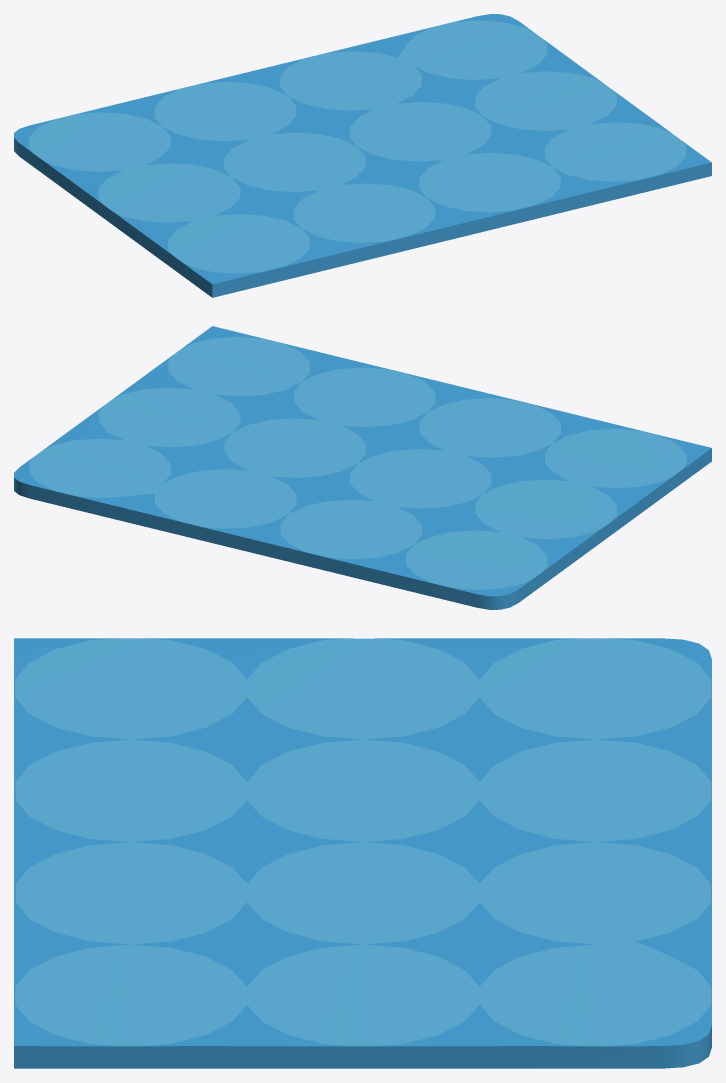
Rendered from tile01_s02.FBX.
3 renders of one model, top to bottom at view 1: azimuth 30°, elevation 25°; view 2: azimuth 150°, elevation 25°; view 3: azimuth 270°, elevation 25°, orthographic. The views are drawn at different scales.
Parts seen in each view (by area): view 1: tile01_s02; view 2: tile01_s02; view 3: tile01_s02.
Boxes of the visible parts, left/top/right/bottom form: tile01_s02: left=14, top=14, right=711, bottom=297; tile01_s02: left=14, top=326, right=711, bottom=609; tile01_s02: left=14, top=638, right=711, bottom=1068.
Bounding box in the file's own units: 948 × 686 × 24.49.
1 material, 1 textured.
